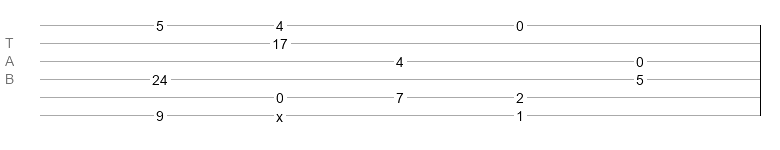0: (276, 90, 284, 100), (516, 18, 524, 28), (636, 54, 644, 64)
1: (516, 108, 524, 118)
17: (272, 36, 288, 46)
2: (516, 90, 524, 100)
24: (152, 72, 168, 82)
4: (276, 18, 284, 28), (396, 54, 404, 64)
5: (156, 18, 164, 28), (636, 72, 644, 82)
7: (396, 90, 404, 100)
9: (156, 108, 164, 118)
x: (276, 109, 283, 117)
